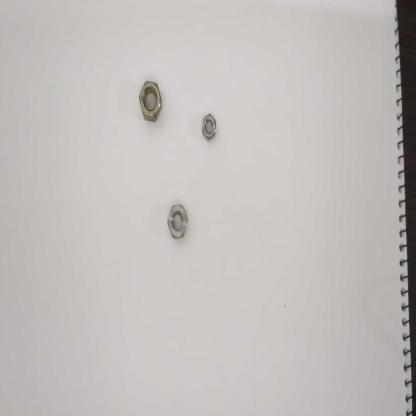NUTS: (136, 76, 164, 119), (165, 200, 189, 244), (201, 107, 217, 148)
